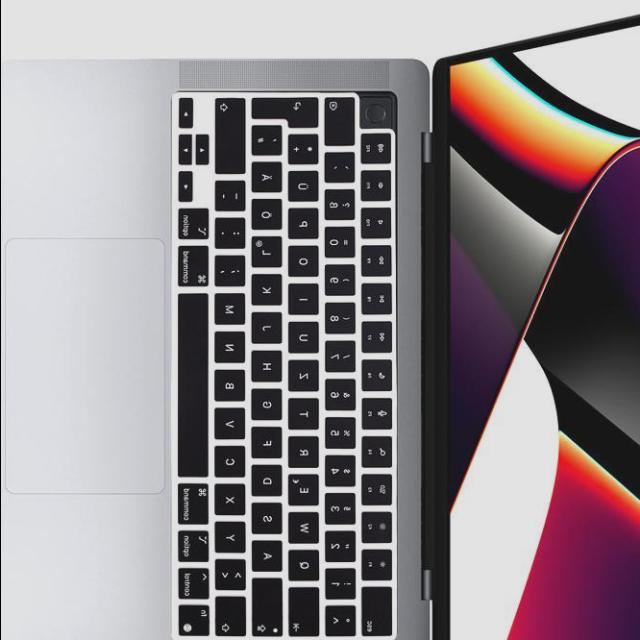0: (326, 228, 358, 262)
1: (327, 570, 359, 604)
2: (326, 532, 358, 566)
3: (326, 495, 358, 529)
4: (326, 458, 358, 490)
5: (326, 419, 358, 453)
6: (326, 380, 358, 414)
7: (326, 342, 358, 376)
8: (326, 304, 358, 338)
9: (326, 267, 358, 299)
a: (254, 544, 286, 576)
accent: (326, 154, 358, 186)
ae: (253, 164, 285, 196)
alt-left: (178, 531, 212, 566)
altgr-right: (179, 210, 211, 244)
b: (216, 371, 248, 405)
c: (216, 448, 248, 482)
caret: (327, 608, 359, 640)
comma: (217, 258, 249, 290)
d: (253, 467, 285, 501)
del: (325, 98, 357, 149)
e: (290, 477, 322, 511)
enter: (253, 98, 321, 132)
f: (253, 429, 285, 463)
g: (253, 392, 285, 424)
h: (253, 353, 285, 387)
hash: (254, 128, 286, 160)
i: (290, 287, 322, 319)
j: (253, 315, 285, 347)
k: (253, 276, 285, 308)
keyboard: (167, 88, 401, 640)
l: (253, 239, 285, 271)
less: (217, 562, 249, 594)
m: (216, 295, 248, 329)
minus: (217, 183, 248, 215)
n: (216, 334, 248, 368)
o: (290, 249, 322, 281)
oe: (253, 201, 285, 233)
p: (290, 211, 322, 243)
plus: (290, 137, 322, 169)
point: (217, 219, 248, 253)
q: (289, 552, 323, 586)
r: (290, 438, 322, 472)
s: (253, 505, 285, 539)
shift-left: (216, 599, 248, 640)
shift-lock: (253, 579, 285, 639)
shift-right: (216, 100, 248, 178)
space: (179, 295, 211, 481)
ss: (326, 190, 358, 224)
strg-left: (179, 569, 211, 603)
t: (291, 401, 323, 433)
tab: (290, 589, 322, 639)
u: (290, 324, 322, 356)
ue: (290, 174, 322, 206)
v: (217, 409, 249, 443)
w: (289, 514, 323, 548)
x: (216, 485, 248, 519)
y: (216, 523, 248, 557)
z: (290, 361, 322, 395)
